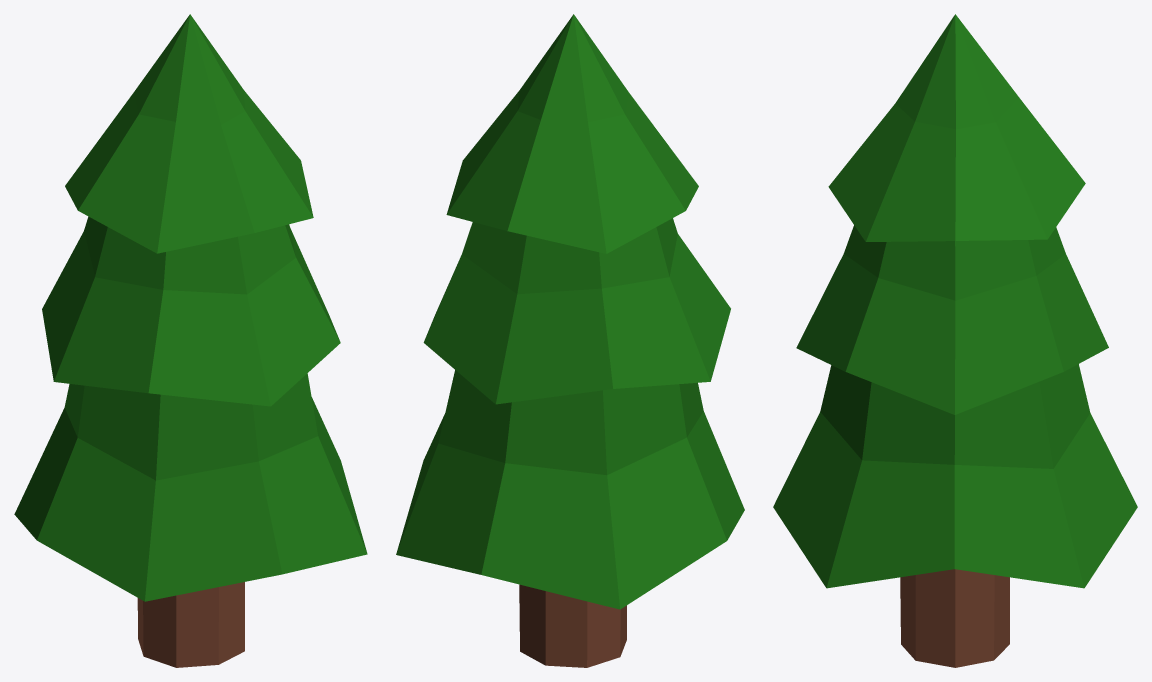
The model's file is Tree_01_summer_vc.fbx.
3 renders of one model, left to right at view 1: azimuth 30°, elevation 25°; view 2: azimuth 150°, elevation 25°; view 3: azimuth 270°, elevation 25°, orthographic.
Visible parts, largest first — view 1: Tree_01_summer_vc; view 2: Tree_01_summer_vc; view 3: Tree_01_summer_vc.
Part boxes in pixels (left/top/right/bottom): Tree_01_summer_vc: left=14, top=14, right=367, bottom=667; Tree_01_summer_vc: left=396, top=14, right=744, bottom=667; Tree_01_summer_vc: left=773, top=14, right=1137, bottom=667.
Size of the model in its own units: 2.16 by 4.3 by 2.26.
